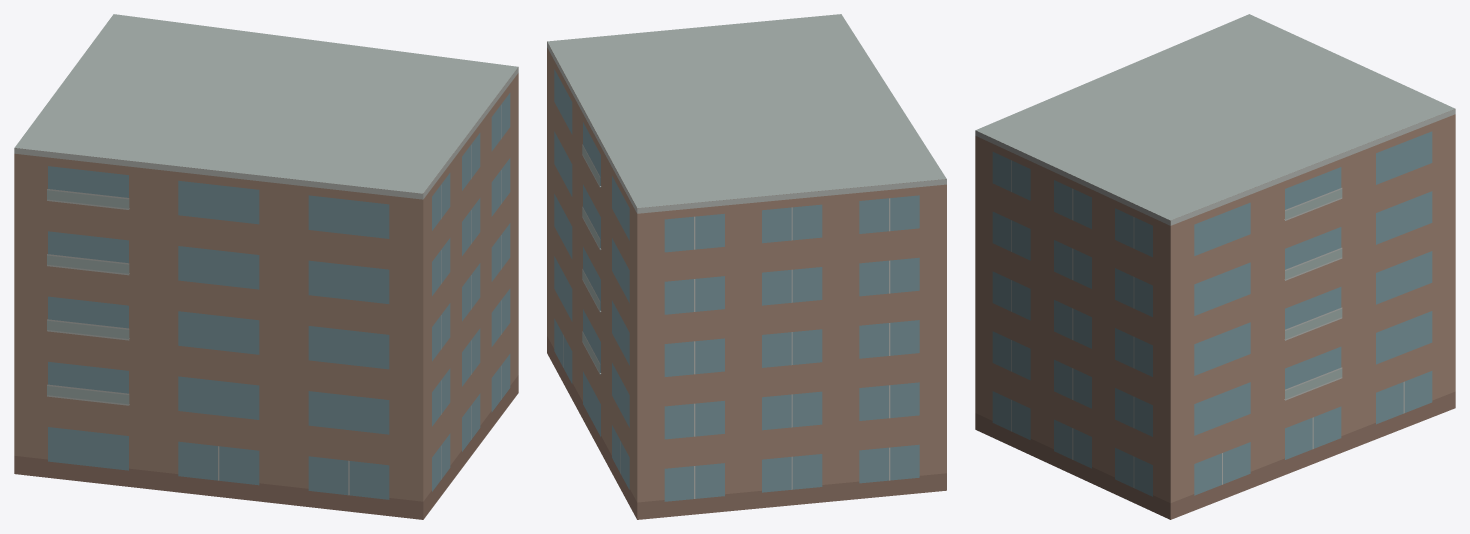
Rendered from survey-upis-32965521.glb.
The picture shows the model from 3 angles, left to right: view 1: azimuth 30°, elevation 25°; view 2: azimuth 150°, elevation 25°; view 3: azimuth 270°, elevation 25°; orthographic projection. The views are drawn at different scales.
Parts seen in each view (by area): view 1: survey-upis-32965521.tmp; view 2: survey-upis-32965521.tmp; view 3: survey-upis-32965521.tmp.
Boxes of the visible parts, x1=… form: survey-upis-32965521.tmp: x1=14, y1=14, x2=518, y2=519; survey-upis-32965521.tmp: x1=547, y1=14, x2=946, y2=519; survey-upis-32965521.tmp: x1=975, y1=14, x2=1455, y2=519.
Bounding box in the file's own units: 20.13 × 13.6 × 19.78.
